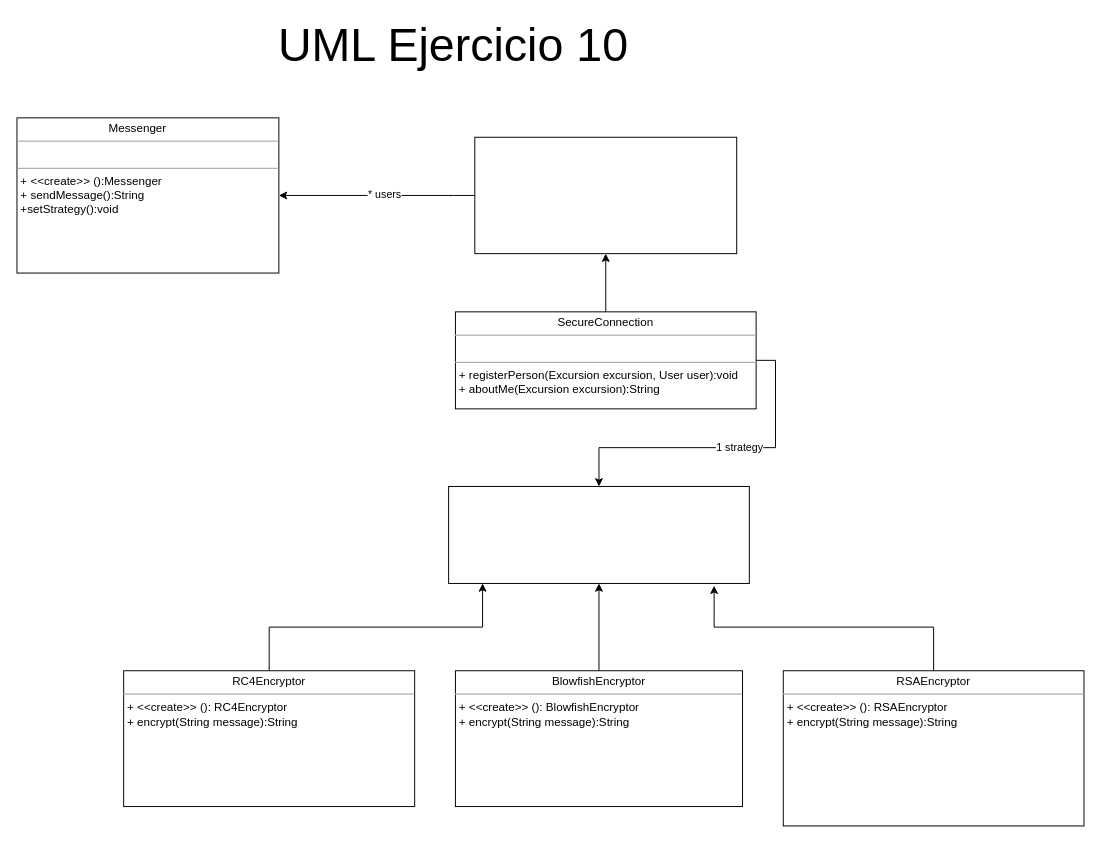
This 1101x843 diagram has some shape labels left out. The shapes that lost their labels are listed below. From the top down, each one's centre as x and y in pixels, then its label:
At (605,195): "Connection + sendMessage():String + setStrategy():void".
At (598,534): "<<Interface>> EncryptorStrategy + encrypt(String message): String".
